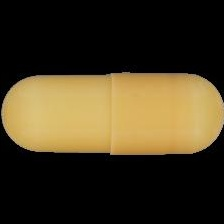42291-655: (0, 0, 224, 224)
